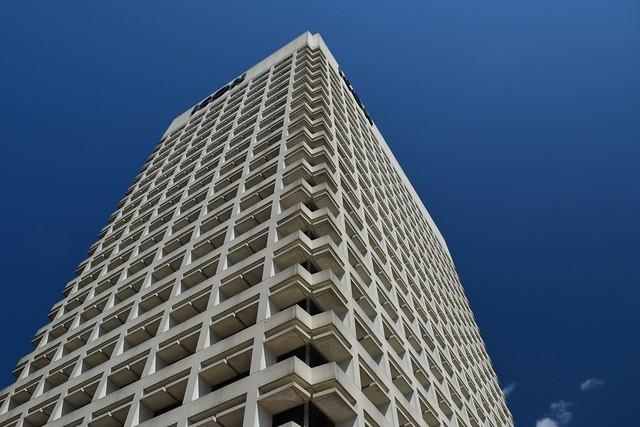building: (8, 29, 514, 426)
